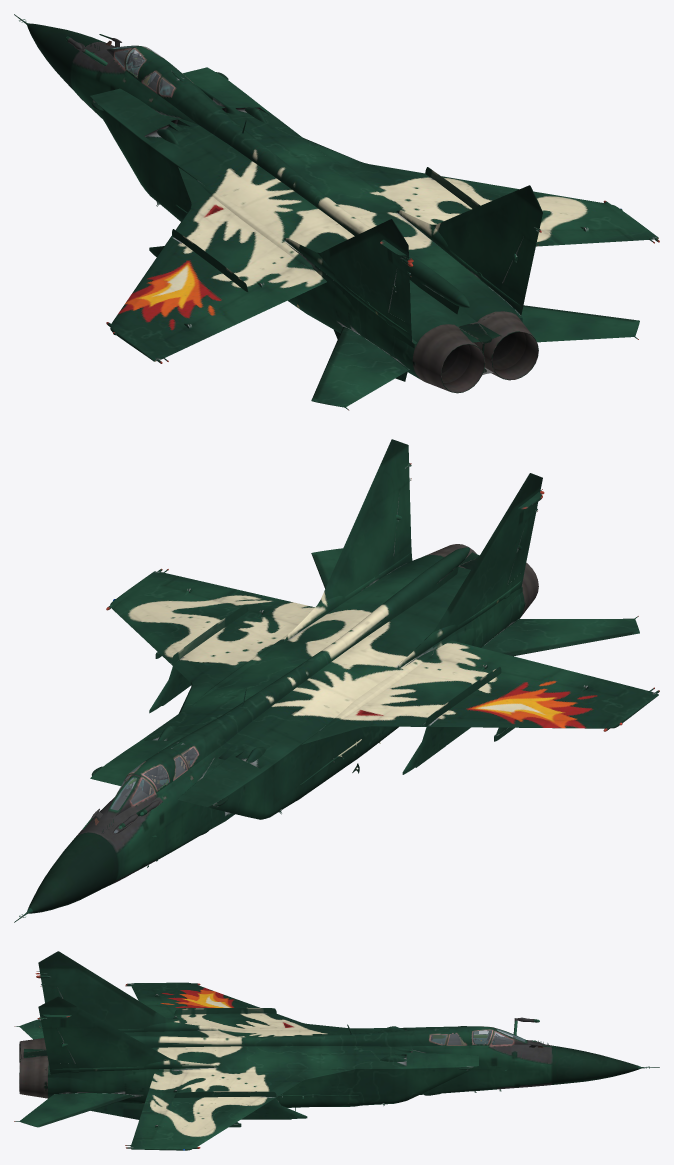
The model's file is e_mig31.dragon.glb.
3 views of the same model, one above another, from view 1: azimuth 30°, elevation 25°; view 2: azimuth 150°, elevation 25°; view 3: azimuth 270°, elevation 25° (orthographic). The views are drawn at different scales.
Visible parts, largest first — view 1: body|Body, body|glass; view 2: body|Body, body|glass; view 3: body|Body, body|glass, body|Cockpit.
Boxes of the visible parts, bbox=[...] form: body|Body: bbox=[14, 14, 659, 410]; body|glass: bbox=[113, 46, 410, 274]; body|Body: bbox=[14, 439, 659, 922]; body|glass: bbox=[111, 508, 537, 832]; body|Body: bbox=[14, 951, 659, 1150]; body|glass: bbox=[41, 984, 524, 1044]; body|Cockpit: bbox=[432, 1030, 521, 1044].
Size of the model in its own units: 13.91 by 5.09 by 22.71.
Materials: 4 (3 with a texture image).
